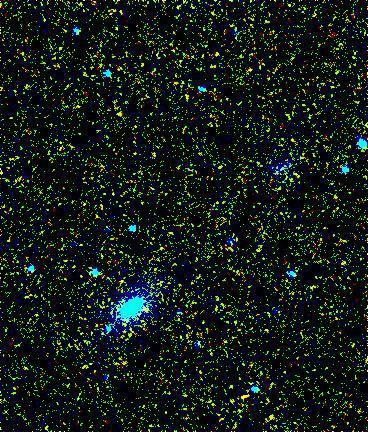star: (132, 293, 162, 323)
